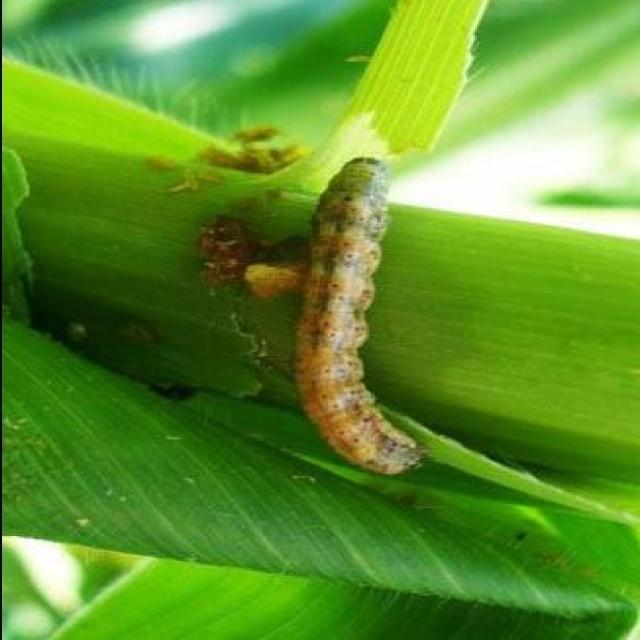army worm: (287, 156, 422, 485)
